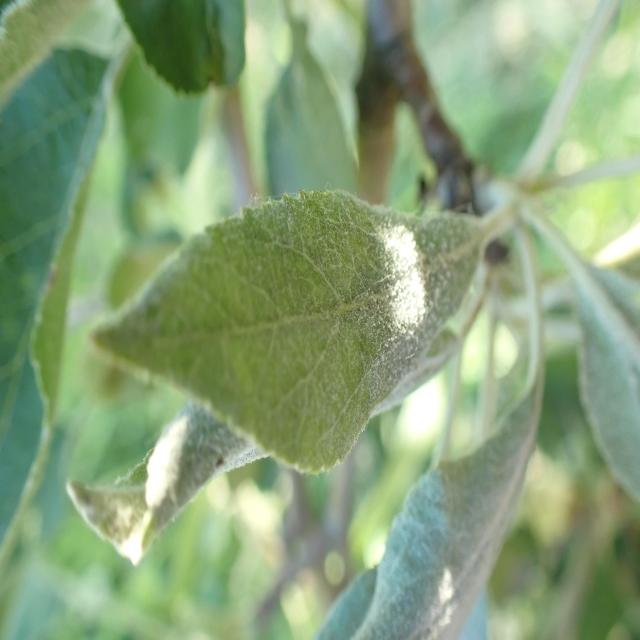Powdery_mildew: (96, 185, 476, 482), (326, 188, 546, 640), (538, 220, 640, 506)
